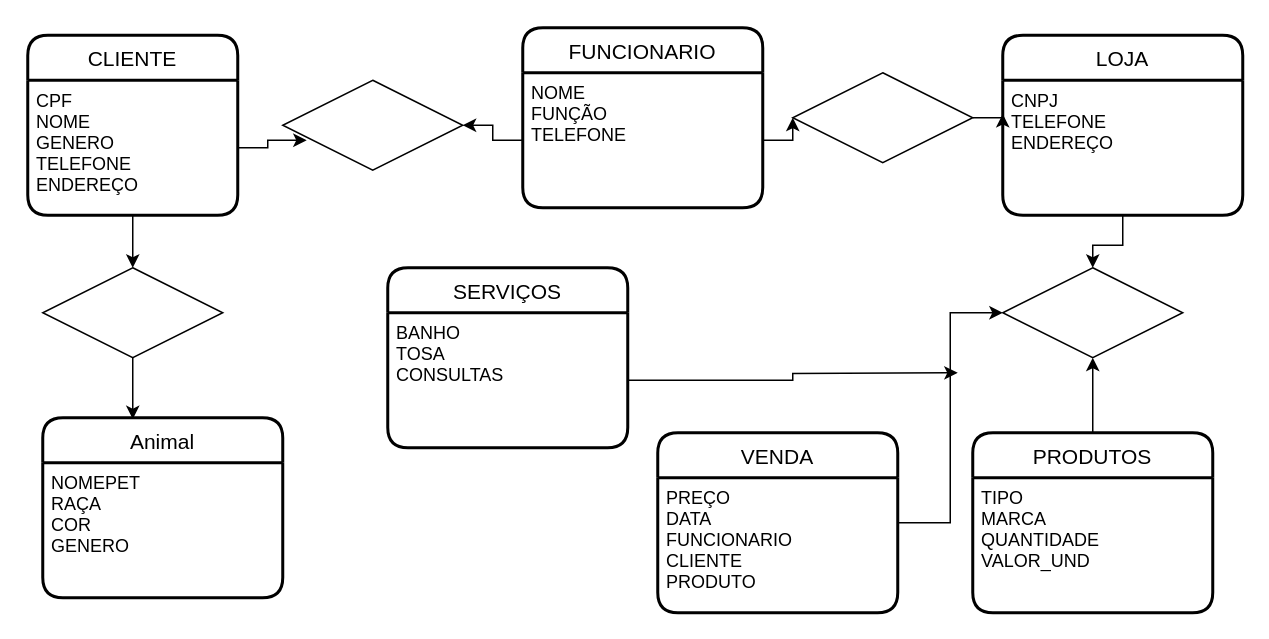
Image size: 1269x639. Some labels were removed from this diagram. Here are the shapes that lost their labels. From the top down, the centre of each, then its label:
(x=372, y=124): ATENDE
(x=882, y=117): EMPREGADO
(x=132, y=312): Dono
(x=1092, y=312): OFERECE
